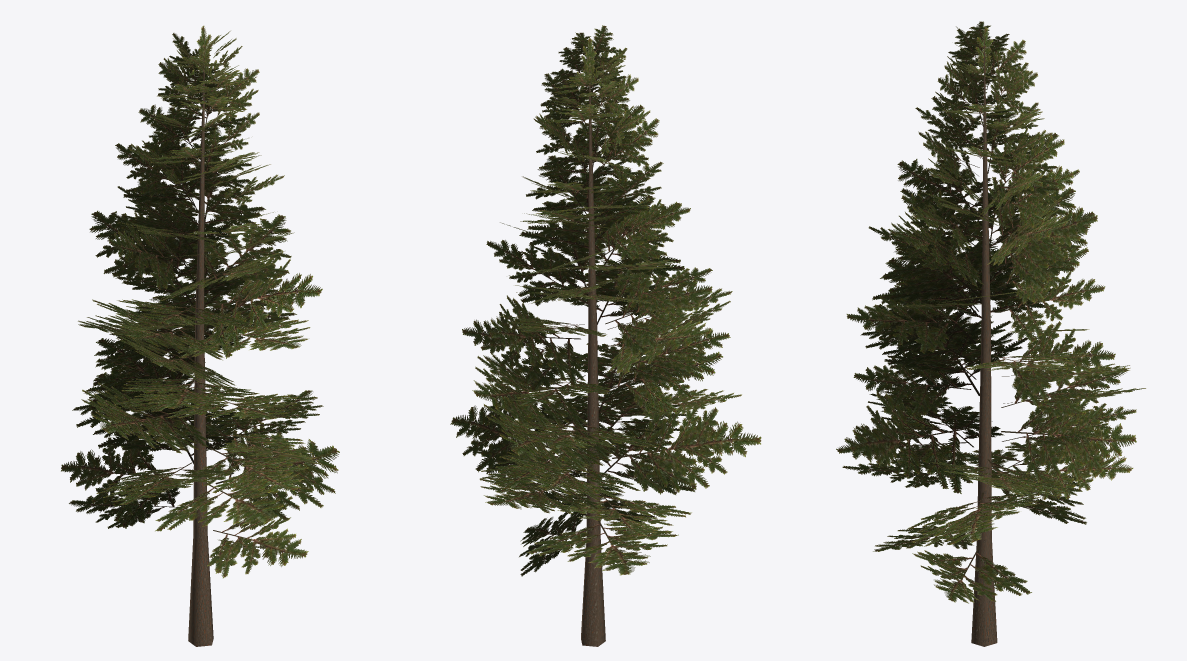
Rendered from fir_medium_a_lod4.gltf.
The picture shows the model from 3 angles, left to right: view 1: azimuth 30°, elevation 25°; view 2: azimuth 150°, elevation 25°; view 3: azimuth 270°, elevation 25°; orthographic projection.
Parts seen in each view (by area): view 1: fir_medium_a_LOD4; view 2: fir_medium_a_LOD4; view 3: fir_medium_a_LOD4.
Boxes of the visible parts, left/top/right/bottom form: fir_medium_a_LOD4: left=61, top=25, right=339, bottom=646; fir_medium_a_LOD4: left=450, top=25, right=761, bottom=646; fir_medium_a_LOD4: left=836, top=21, right=1145, bottom=646.
Bounding box in the file's own units: 10.97 × 20.6 × 10.91.
Materials: 2 (2 with a texture image).
